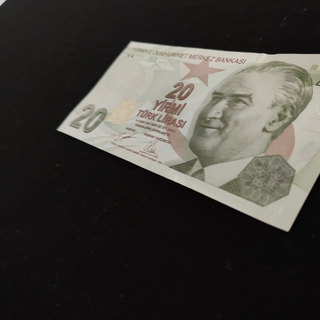20TLFront: (56, 39, 320, 233)
